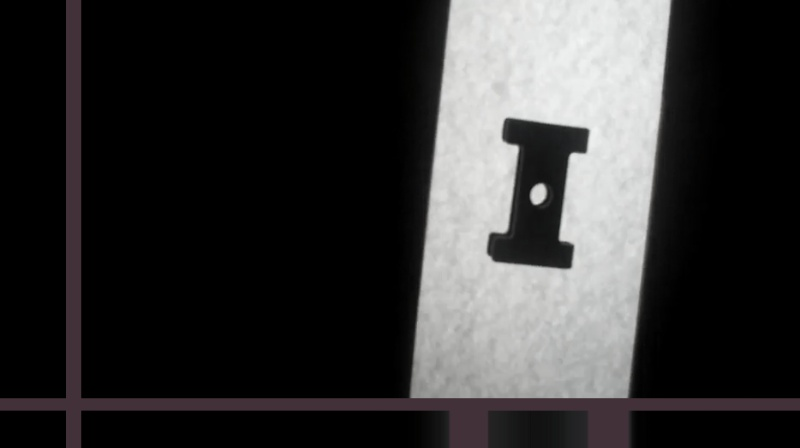O002: (485, 114, 592, 272)
